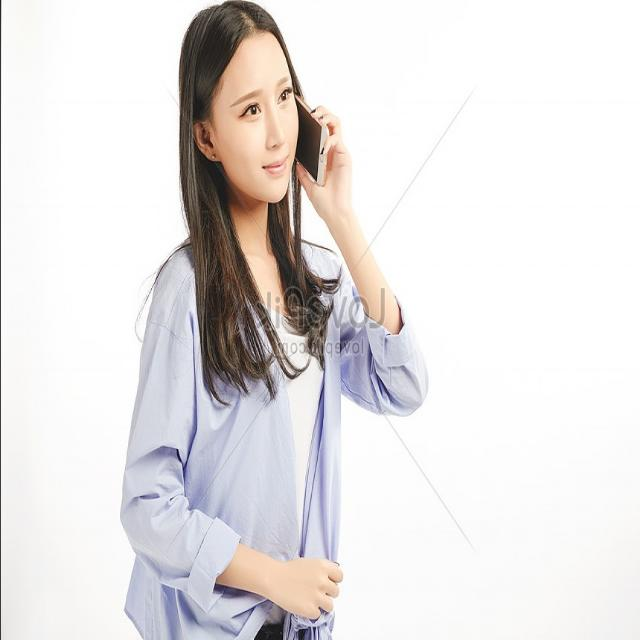phone: (267, 62, 348, 196)
